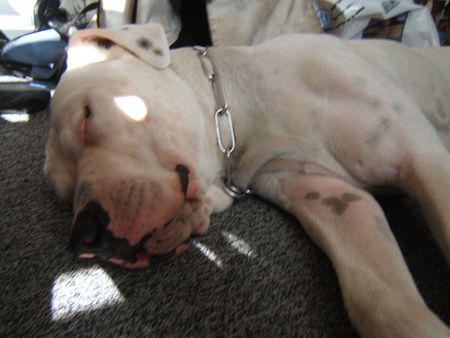dogo_argentino: (41, 21, 450, 338)
